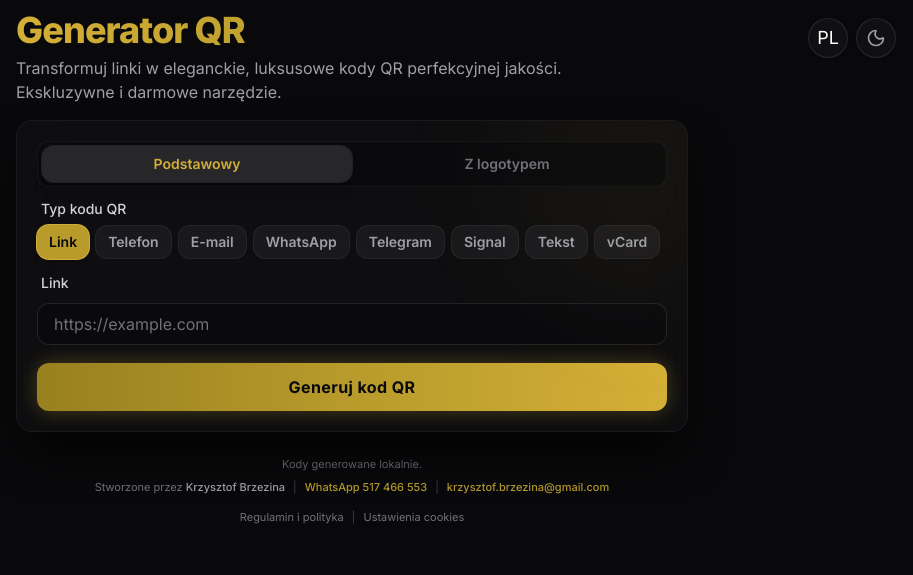
Test: Home komponent › wyswietla blad walidacji dla niepoprawnego URL
Type "nie-url" into the field labelled "Link" at (352,324), box [37, 303, 667, 345]
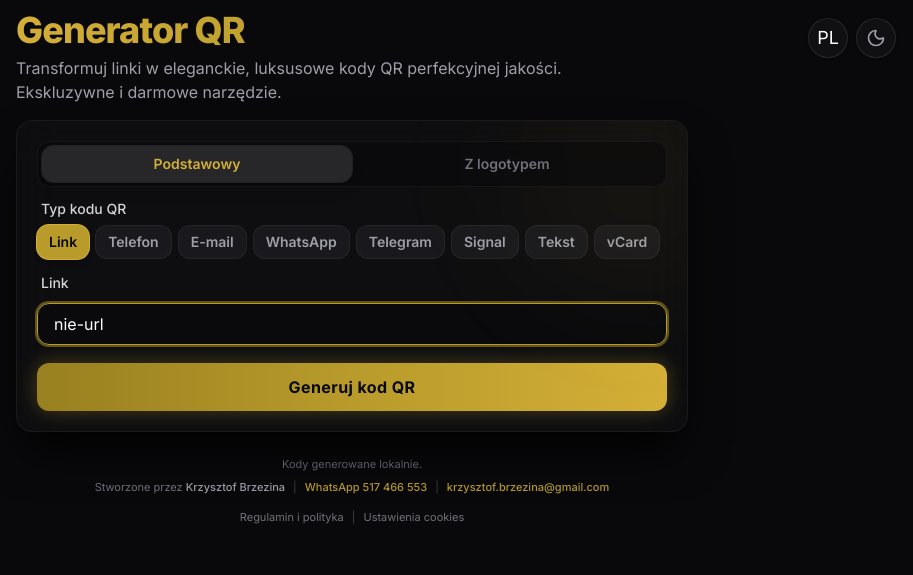
Click the button "Generuj kod QR" at (352,387), box [37, 363, 667, 411]
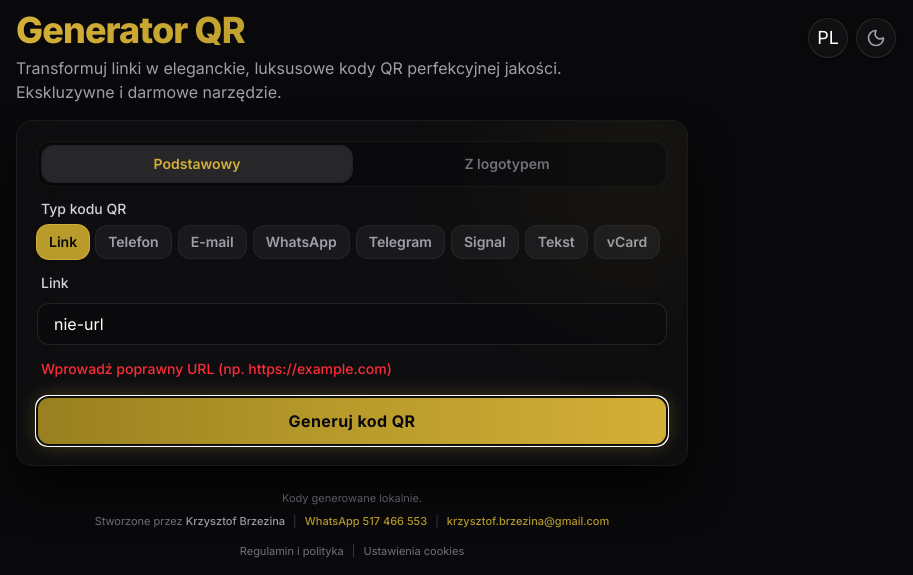
expect the text "Wprowadź poprawny URL (np. https://example.com)" is shown: met, box [41, 360, 392, 377]
